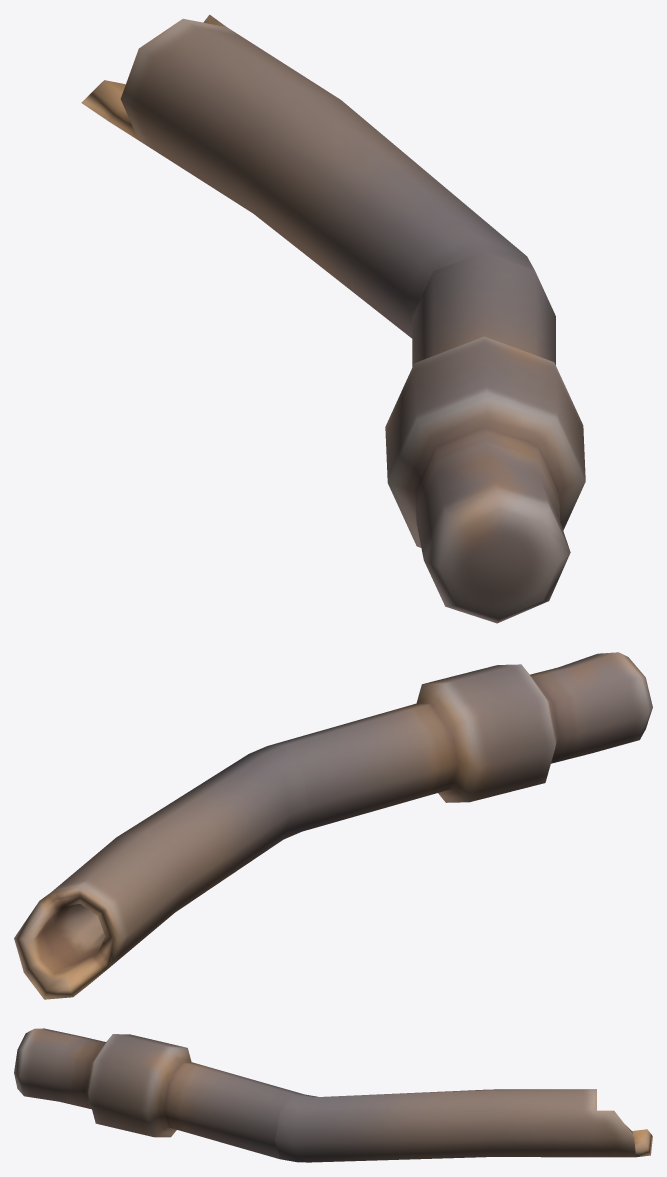
File: Scrap_04.fbx
The picture shows the model from 3 angles, top to bottom: view 1: azimuth 30°, elevation 25°; view 2: azimuth 150°, elevation 25°; view 3: azimuth 270°, elevation 25°; orthographic projection. The views are drawn at different scales.
Parts seen in each view (by area): view 1: Scrap_04; view 2: Scrap_04; view 3: Scrap_04.
Boxes of the visible parts, <box> form: Scrap_04: <box>81,14,585,623</box>; Scrap_04: <box>14,652,652,999</box>; Scrap_04: <box>14,1028,652,1162</box>.
Size of the model in its own units: 0.0973 by 0.0442 by 0.2853.
